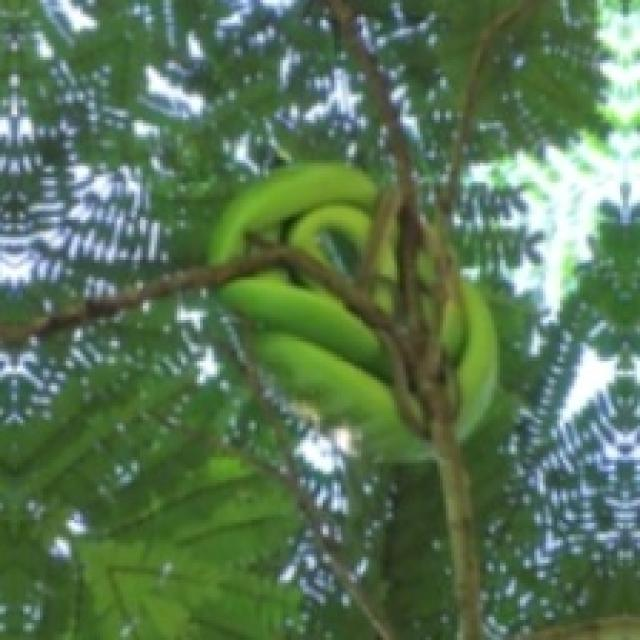red-tailed green ratsnake: (220, 269, 426, 457), (209, 163, 377, 269), (443, 283, 497, 437)
